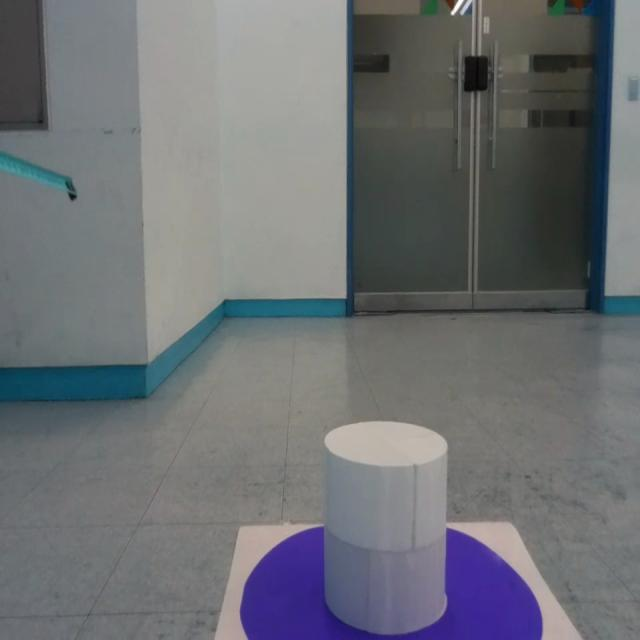cylinder: (320, 420, 448, 634)
